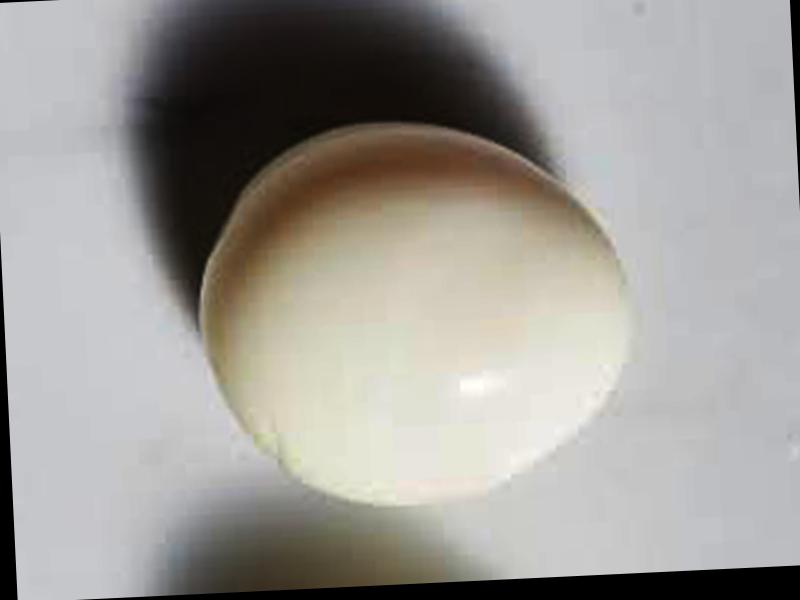Eggs: (189, 110, 635, 514)
